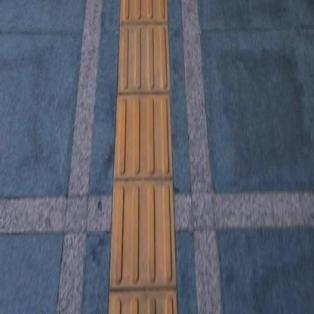Podoctatil: (108, 0, 180, 313)
